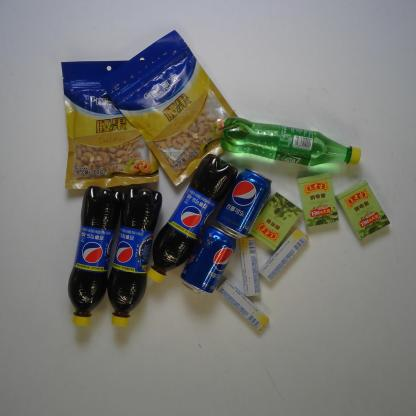Candy: (334, 178, 392, 243), (249, 191, 304, 253), (215, 276, 270, 332), (258, 226, 310, 284), (296, 170, 340, 229), (236, 235, 264, 299)
Dried Fruit: (98, 28, 250, 189), (59, 58, 162, 191)
Drink: (146, 152, 239, 286), (105, 186, 164, 328), (66, 184, 123, 328), (218, 115, 364, 170), (178, 222, 238, 297), (214, 166, 274, 240)
